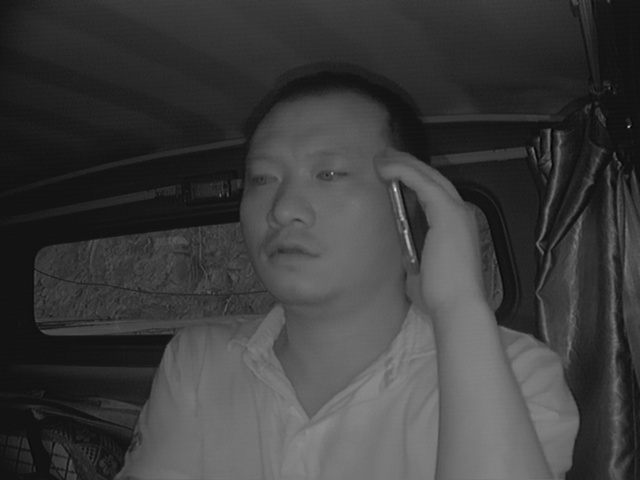hand: (372, 143, 479, 299)
